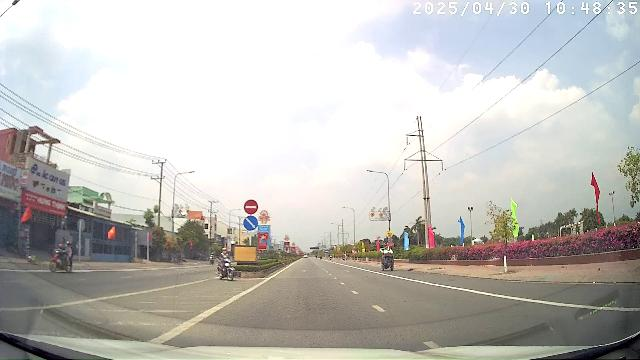102-cam-di-nguoc-chieu: (244, 199, 258, 214)
302a-huong-phai-di-vong-chuong-ngai-vat-1: (244, 215, 258, 231)
